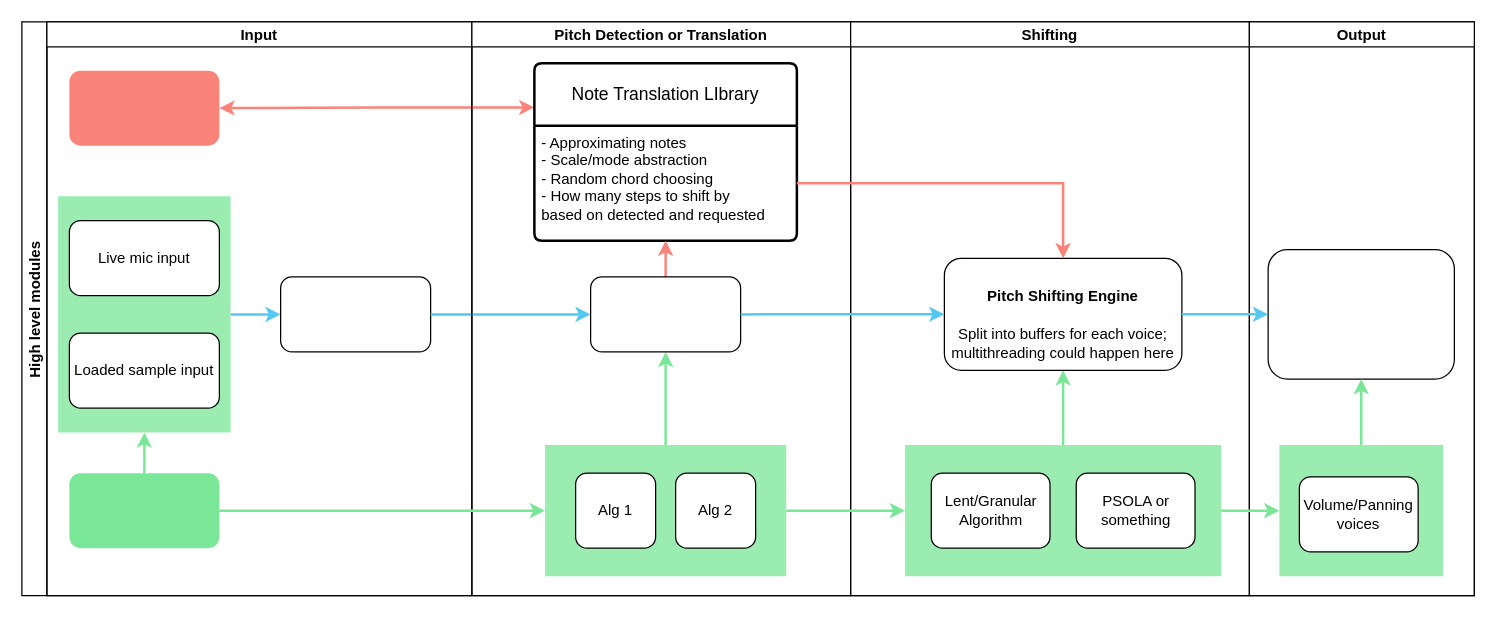
Image size: 1496x618. Some labels were removed from this diagram. Each missing label, with the centre of its shape:
"Combined voices added to final output buffer" goes at point (1360, 313).
"Extra Settings" goes at point (144, 510).
"Input Samples" goes at point (355, 314).
"MIDI Note Choosing" goes at point (144, 107).
"Pitch Detection Engine" goes at point (665, 314).
